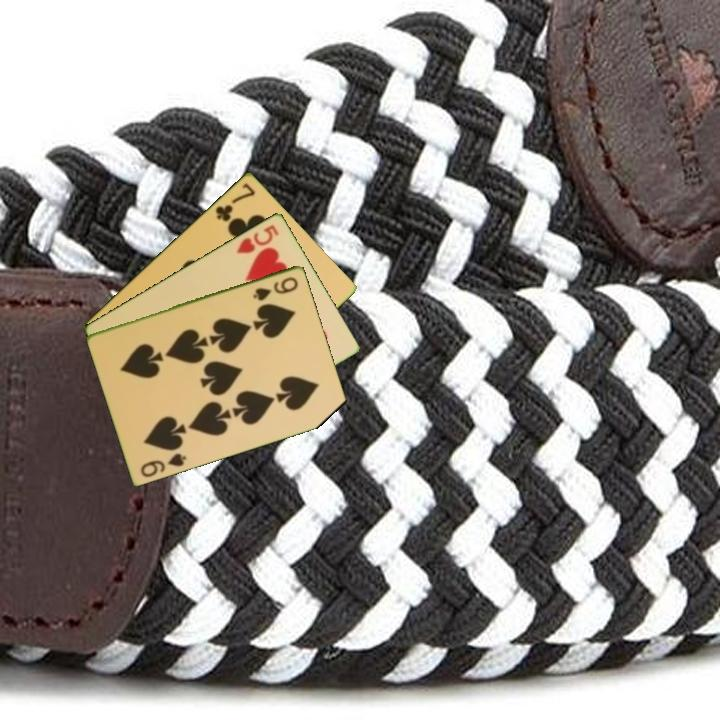5h: (233, 221, 282, 256)
7c: (212, 179, 258, 224)
9s: (137, 449, 189, 480), (250, 273, 301, 303)
